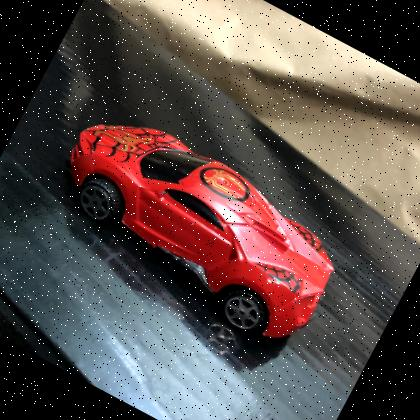Car: (68, 125, 333, 340)
